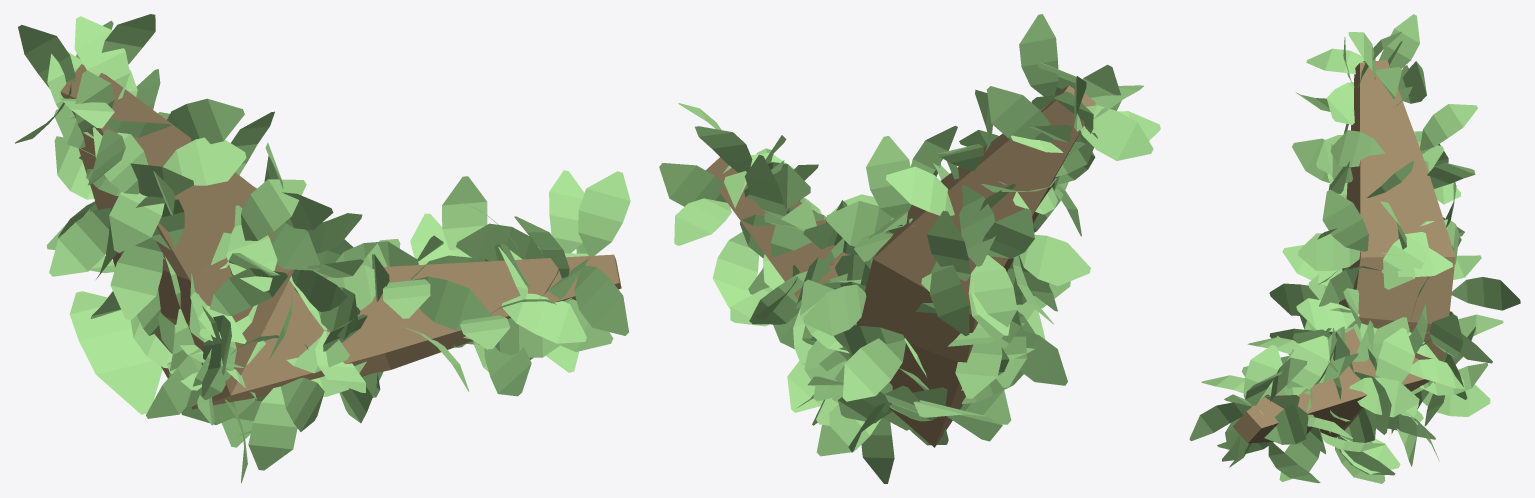
The model's file is bridge02.fbx.
3 renders of one model, left to right at view 1: azimuth 30°, elevation 25°; view 2: azimuth 150°, elevation 25°; view 3: azimuth 270°, elevation 25°, orthographic. The views are drawn at different scales.
Visible parts, largest first — view 1: Tree9, leaf, Tree9|leaf|Dupli|96, Tree9|leaf|Dupli|18, Tree9|leaf|Dupli|167, Tree9|leaf|Dupli|57, Tree9|leaf|Dupli|147, Tree9|leaf|Dupli|114, Tree9|leaf|Dupli|159, Tree9|leaf|Dupli|21, Tree9|leaf|Dupli|196, Tree9|leaf|Dupli|185 (+47 smaller); view 2: Tree9, Tree9|leaf|Dupli|124, Tree9|leaf|Dupli|122, Tree9|leaf|Dupli|132, Tree9|leaf|Dupli|111, Tree9|leaf|Dupli|75, Tree9|leaf|Dupli|136, Tree9|leaf|Dupli|41, Tree9|leaf|Dupli|108, Tree9|leaf|Dupli|70, Tree9|leaf|Dupli|73, Tree9|leaf|Dupli|29 (+39 smaller); view 3: Tree9, Tree9|leaf|Dupli|24, Tree9|leaf|Dupli|85, Tree9|leaf|Dupli|40, Tree9|leaf|Dupli|70, Tree9|leaf|Dupli|74, Tree9|leaf|Dupli|120, Tree9|leaf|Dupli|198, Tree9|leaf|Dupli|89, Tree9|leaf|Dupli|185, Tree9|leaf|Dupli|56, Tree9|leaf|Dupli|133 (+43 smaller).
Boxes of the visible parts, x1=… form: Tree9: x1=60, y1=64, x2=621, y2=409; leaf: x1=69, y1=291, x2=162, y2=414; Tree9|leaf|Dupli|96: x1=578, y1=171, x2=630, y2=255; Tree9|leaf|Dupli|18: x1=110, y1=237, x2=163, y2=320; Tree9|leaf|Dupli|167: x1=49, y1=208, x2=110, y2=276; Tree9|leaf|Dupli|57: x1=163, y1=137, x2=246, y2=185; Tree9|leaf|Dupli|147: x1=241, y1=179, x2=306, y2=240; Tree9|leaf|Dupli|114: x1=248, y1=386, x2=297, y2=470; Tree9|leaf|Dupli|159: x1=501, y1=293, x2=586, y2=343; Tree9|leaf|Dupli|21: x1=574, y1=265, x2=628, y2=335; Tree9|leaf|Dupli|196: x1=442, y1=176, x2=487, y2=257; Tree9|leaf|Dupli|185: x1=167, y1=98, x2=244, y2=143; Tree9: x1=706, y1=85, x2=1095, y2=447; Tree9|leaf|Dupli|124: x1=842, y1=338, x2=905, y2=401; Tree9|leaf|Dupli|122: x1=968, y1=255, x2=1017, y2=340; Tree9|leaf|Dupli|132: x1=1080, y1=105, x2=1153, y2=160; Tree9|leaf|Dupli|111: x1=1019, y1=234, x2=1090, y2=285; Tree9|leaf|Dupli|75: x1=986, y1=86, x2=1052, y2=142; Tree9|leaf|Dupli|136: x1=712, y1=232, x2=759, y2=308; Tree9|leaf|Dupli|41: x1=1019, y1=14, x2=1058, y2=96; Tree9|leaf|Dupli|108: x1=866, y1=136, x2=911, y2=218; Tree9|leaf|Dupli|70: x1=803, y1=284, x2=866, y2=336; Tree9|leaf|Dupli|73: x1=930, y1=261, x2=969, y2=335; Tree9|leaf|Dupli|29: x1=659, y1=163, x2=727, y2=206; Tree9: x1=1232, y1=60, x2=1455, y2=443; Tree9|leaf|Dupli|24: x1=1322, y1=189, x2=1368, y2=251; Tree9|leaf|Dupli|85: x1=1383, y1=232, x2=1428, y2=289; Tree9|leaf|Dupli|40: x1=1298, y1=233, x2=1360, y2=270; Tree9|leaf|Dupli|70: x1=1451, y1=277, x2=1520, y2=310; Tree9|leaf|Dupli|74: x1=1349, y1=377, x2=1419, y2=417; Tree9|leaf|Dupli|120: x1=1375, y1=327, x2=1414, y2=382; Tree9|leaf|Dupli|198: x1=1420, y1=104, x2=1477, y2=150; Tree9|leaf|Dupli|89: x1=1287, y1=335, x2=1329, y2=394; Tree9|leaf|Dupli|185: x1=1330, y1=130, x2=1384, y2=167; Tree9|leaf|Dupli|56: x1=1296, y1=298, x2=1359, y2=331; Tree9|leaf|Dupli|133: x1=1379, y1=14, x2=1419, y2=68.
Size of the model in its own units: 336 by 287 by 222.
